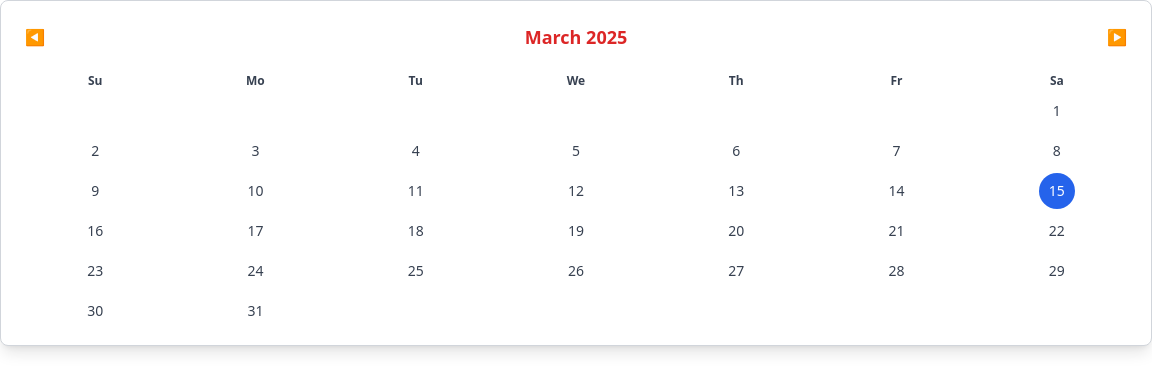
Scenario: Calendar › allows paging into the max month even when today is the 31st-ish
Click the button named "Next month" at x=1117, y=37, box [1099, 17, 1135, 57]
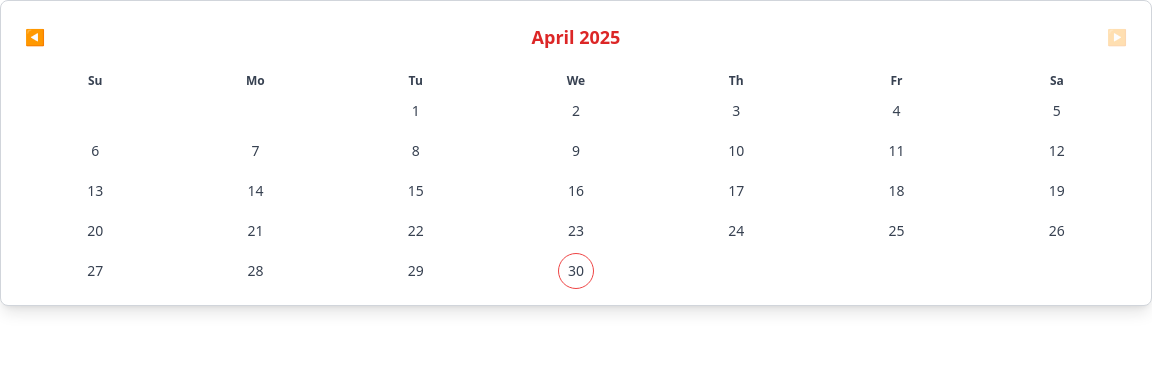
Check: the heading "April 2025" is shown, box [532, 23, 620, 51]
Check: the button named "Next month" is disabled, box [1099, 17, 1135, 57]
